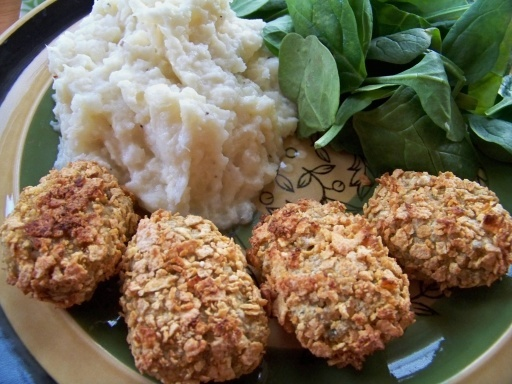background: (0, 0, 410, 230)
